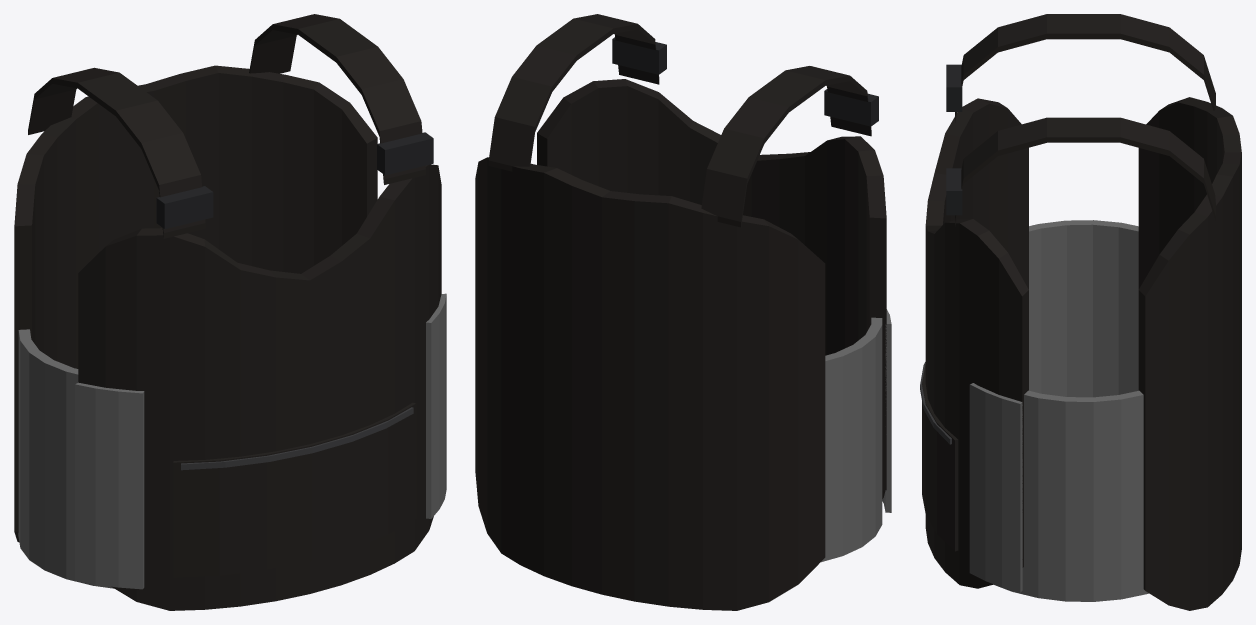
Rendered from stf-vest.glb.
3 views of the same model, side by side, from view 1: azimuth 30°, elevation 25°; view 2: azimuth 150°, elevation 25°; view 3: azimuth 270°, elevation 25° (orthographic). The views are drawn at different scales.
Visible parts, largest first — view 1: stf-vest; view 2: stf-vest; view 3: stf-vest.
Part boxes in pixels (x1,y1,x2,y2): stf-vest: (14,14,446,610); stf-vest: (475,14,891,610); stf-vest: (920,14,1241,610).
Size of the model in its own units: 0.3513 by 0.427 by 0.2625.
Materials: 1 (1 with a texture image).
